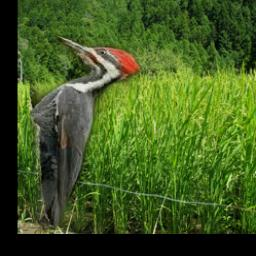Woodpecker: (31, 36, 141, 227)
